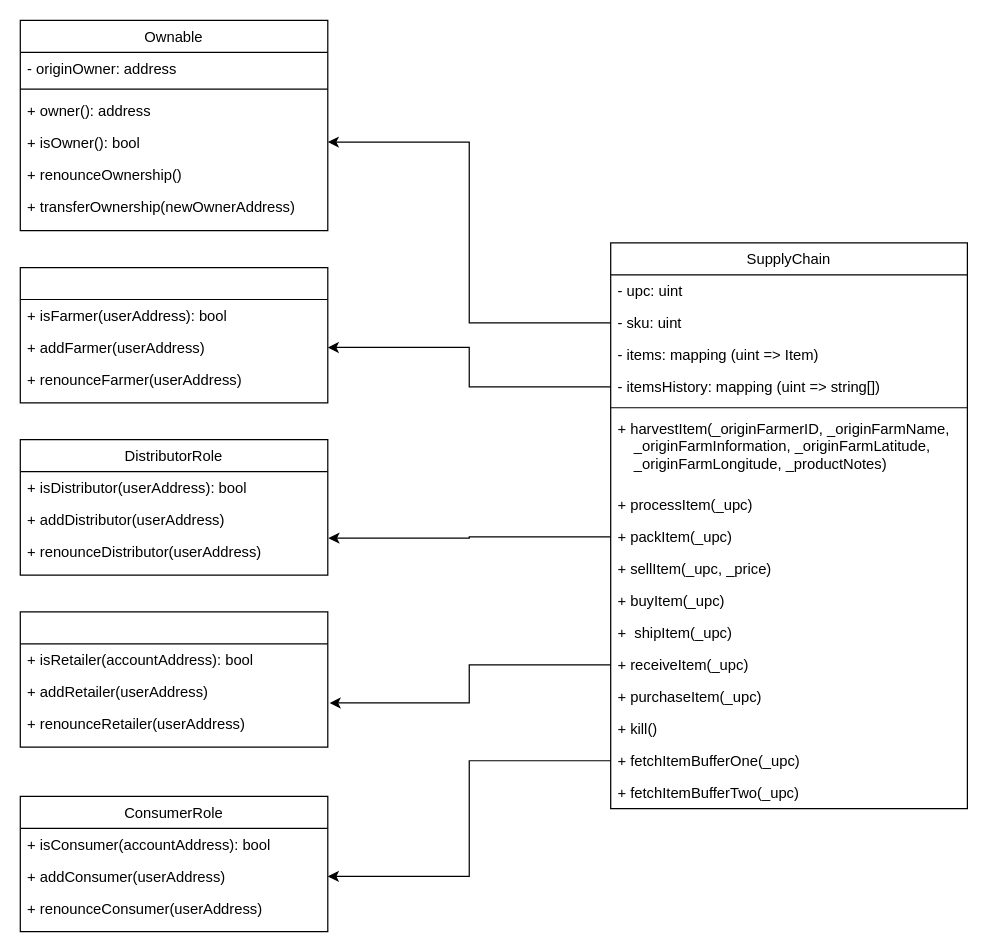
The diagram is 988 pixels wide and 952 high, and some of its shapes have lost their labels. The box of each missing label's shape, as (x1, y1, x2, y2) in pixels:
FarmerRole: (19, 266, 328, 403)
RetailerRole: (19, 611, 328, 747)
